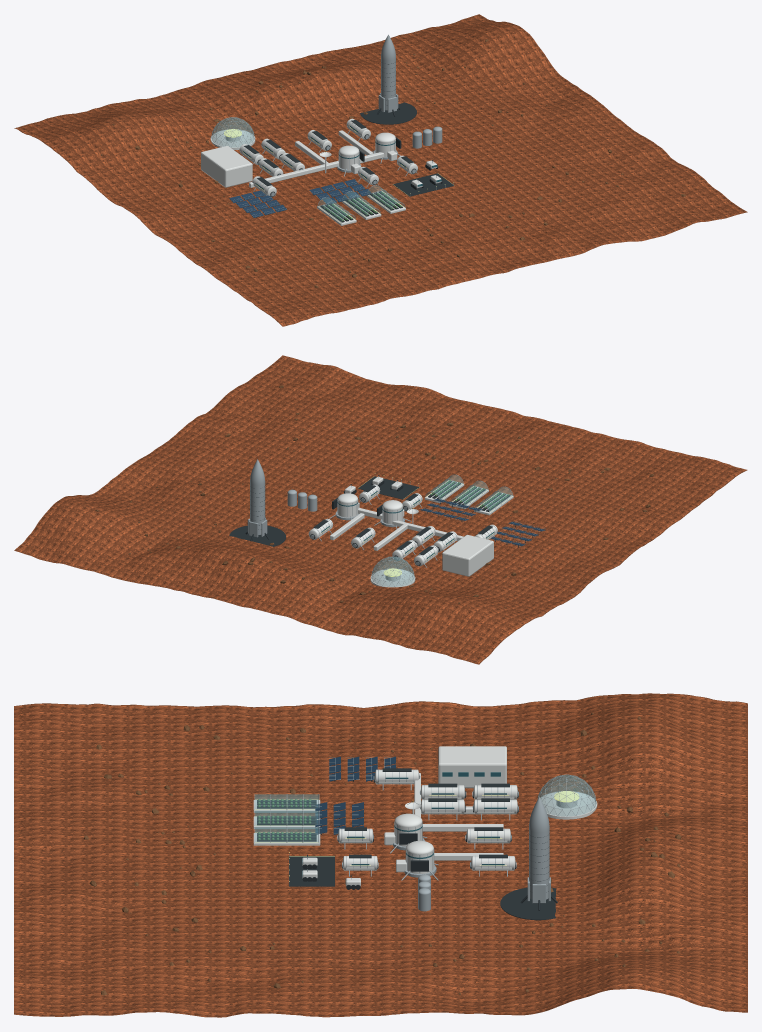
File: mars-outpost-v1.glb
3 renders of one model, top to bottom at view 1: azimuth 30°, elevation 25°; view 2: azimuth 150°, elevation 25°; view 3: azimuth 270°, elevation 25°, orthographic. The views are drawn at different scales.
Visible parts, largest first — view 1: Mars regolith, Ceramic pressure skin, Titanium structure, Graphite composite, Transparent pressure glazing, Photovoltaic cells, Basalt; view 2: Mars regolith, Ceramic pressure skin, Titanium structure, Graphite composite, Transparent pressure glazing, Basalt, Photovoltaic cells; view 3: Mars regolith, Ceramic pressure skin, Graphite composite, Titanium structure, Transparent pressure glazing, Photovoltaic cells, Basalt, Hydroponic planting, Coated blue glazing, Amber navigation lights.
Part boxes in pixels (<box>): Mars regolith: <box>14,14,747,326</box>; Ceramic pressure skin: <box>201,118,441,225</box>; Titanium structure: <box>211,34,453,223</box>; Graphite composite: <box>236,62,454,222</box>; Transparent pressure glazing: <box>211,117,404,222</box>; Photovoltaic cells: <box>229,179,370,217</box>; Basalt: <box>101,39,685,287</box>; Mars regolith: <box>14,355,747,664</box>; Ceramic pressure skin: <box>308,476,513,587</box>; Titanium structure: <box>247,459,545,587</box>; Graphite composite: <box>229,475,538,565</box>; Transparent pressure glazing: <box>371,475,512,586</box>; Basalt: <box>95,385,653,608</box>; Photovoltaic cells: <box>420,498,545,545</box>; Mars regolith: <box>14,693,747,1017</box>; Ceramic pressure skin: <box>253,746,597,886</box>; Graphite composite: <box>257,765,557,920</box>; Titanium structure: <box>254,757,596,911</box>; Transparent pressure glazing: <box>255,774,596,842</box>; Photovoltaic cells: <box>315,756,395,834</box>; Basalt: <box>84,713,681,995</box>; Hydroponic planting: <box>258,799,311,840</box>; Coated blue glazing: <box>302,772,506,883</box>; Amber navigation lights: <box>255,791,579,881</box>.
Size of the model in its own units: 320 by 55.19 by 320.
Materials: 11 (1 with a texture image).
